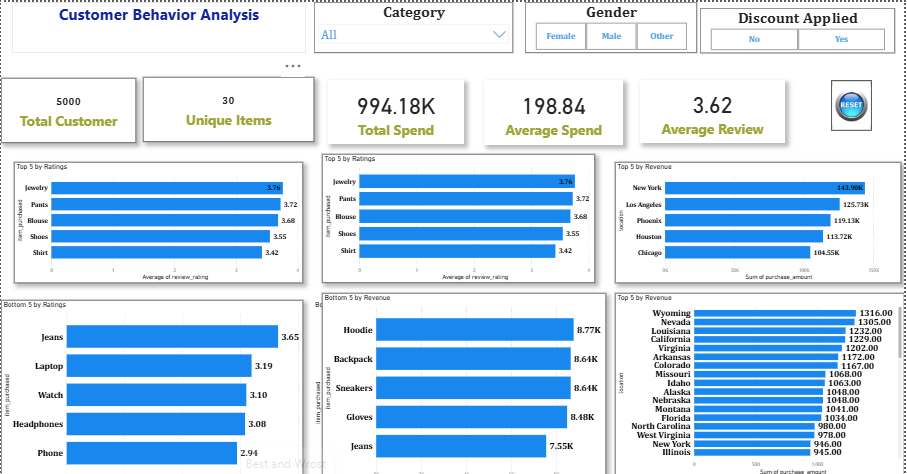

The page's visual inventory and layout, read from the dashboard file:
{"tool":"powerbi","page":{"name":"Best and Wrost","canvas":[2200,1200],"ordinal":1},"visuals":[{"type":"card","fields":{"Values":["customer_behavior_analysis.Total Customer"]},"box":[0,185.2,328.9,158.4],"z":0},{"type":"clusteredBarChart","title":"Top 5 by Ratings","fields":{"Category":["customer_behavior_analysis.item_purchased"],"Y":["Avg(customer_behavior_analysis.review_rating)"]},"box":[782.1,370.3,665.1,314.3],"z":1000},{"type":"clusteredBarChart","title":"Bottom 5 by Ratings","fields":{"Category":["customer_behavior_analysis.item_purchased"],"Y":["Avg(customer_behavior_analysis.review_rating)"]},"box":[0,725.6,736.1,474],"z":2000},{"type":"clusteredBarChart","title":"Top 5 by Ratings","fields":{"Category":["customer_behavior_analysis.item_purchased"],"Y":["Avg(customer_behavior_analysis.review_rating)"]},"box":[31.7,389.8,704.1,294.8],"z":3000},{"type":"clusteredBarChart","title":"Bottom 5 by Ratings","fields":{"Category":["customer_behavior_analysis.item_purchased"]},"box":[759,726.4,714.6,474.4],"z":4000},{"type":"clusteredBarChart","title":"Bottom 5 by Revenue","fields":{"Category":["customer_behavior_analysis.item_purchased"],"Y":["Sum(customer_behavior_analysis.purchase_amount)"]},"box":[782.3,708.9,692.1,474],"z":5000},{"type":"clusteredBarChart","title":"Top 5 by Revenue","fields":{"Y":["Sum(customer_behavior_analysis.purchase_amount)"],"Category":["customer_behavior_analysis.location"]},"box":[1495.9,389.8,696.8,294.8],"z":6000},{"type":"clusteredBarChart","title":"Top 5 by Revenue","fields":{"Y":["Sum(customer_behavior_analysis.purchase_amount)"],"Category":["customer_behavior_analysis.location"]},"box":[1495.3,708.9,704.7,448.8],"z":7000},{"type":"card","fields":{"Values":["customer_behavior_analysis.Unique Items"]},"box":[346,182.7,416.6,158.4],"z":8000},{"type":"card","fields":{"Values":["customer_behavior_analysis.Total Spend"]},"box":[796.7,190,331.3,155.9],"z":9000},{"type":"card","fields":{"Values":["customer_behavior_analysis.Average Spend"]},"box":[1176.7,190,338.6,158.4],"z":10000},{"type":"card","fields":{"Values":["customer_behavior_analysis.Average Review"]},"box":[1556.8,190,353.3,153.5],"z":11000},{"type":"textbox","box":[26.8,0,716.3,124.3],"z":12000},{"type":"slicer","title":"Category","fields":{"Values":["customer_behavior_analysis.category"]},"box":[762.6,0,484.8,124.3],"z":13000},{"type":"slicer","title":"Gender","fields":{"Values":["customer_behavior_analysis.gender"]},"box":[1276.6,0,419,124.3],"z":14000},{"type":"slicer","title":"Discount Applied","fields":{"Values":["customer_behavior_analysis.discount_applied"]},"box":[1703,14.6,475.1,109.6],"z":15000},{"type":"actionButton","box":[2022.1,190,99.9,124.3],"z":16000}]}

Visuals, with their boxes on the page's 2200x1200 design canvas (x1, y1, x2, y2). These are canvas units, not pixel positions in the 907x474 screenshot, which may show the page scaled, cropped or inside an application window:
card - customer_behavior_analysis.Total Customer: bbox=[0, 185, 329, 344]
"Top 5 by Ratings" clusteredBarChart: bbox=[782, 370, 1447, 685]
"Bottom 5 by Ratings" clusteredBarChart: bbox=[0, 726, 736, 1200]
"Top 5 by Ratings" clusteredBarChart: bbox=[32, 390, 736, 685]
"Bottom 5 by Ratings" clusteredBarChart: bbox=[759, 726, 1474, 1201]
"Bottom 5 by Revenue" clusteredBarChart: bbox=[782, 709, 1474, 1183]
"Top 5 by Revenue" clusteredBarChart: bbox=[1496, 390, 2193, 685]
"Top 5 by Revenue" clusteredBarChart: bbox=[1495, 709, 2200, 1158]
card - customer_behavior_analysis.Unique Items: bbox=[346, 183, 763, 341]
card - customer_behavior_analysis.Total Spend: bbox=[797, 190, 1128, 346]
card - customer_behavior_analysis.Average Spend: bbox=[1177, 190, 1515, 348]
card - customer_behavior_analysis.Average Review: bbox=[1557, 190, 1910, 344]
textbox: bbox=[27, 0, 743, 124]
"Category" slicer: bbox=[763, 0, 1247, 124]
"Gender" slicer: bbox=[1277, 0, 1696, 124]
"Discount Applied" slicer: bbox=[1703, 15, 2178, 124]
actionButton: bbox=[2022, 190, 2122, 314]
